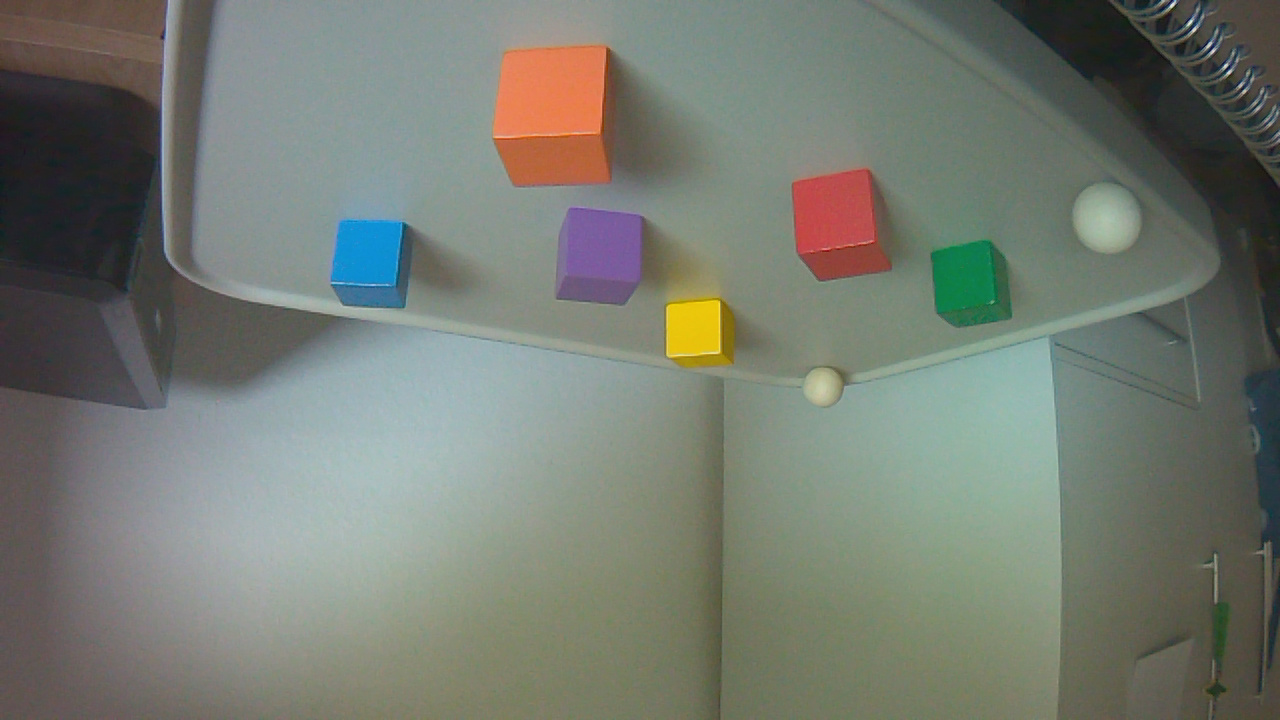ball: (1074, 183, 1151, 262), (805, 369, 850, 415)
cube_blue: (332, 220, 420, 317)
cube_green: (935, 245, 1019, 335)
cube_orange: (494, 47, 625, 193)
cube_purple: (557, 211, 652, 314)
cube_red: (794, 172, 898, 288)
cube_yellow: (667, 301, 742, 377)
